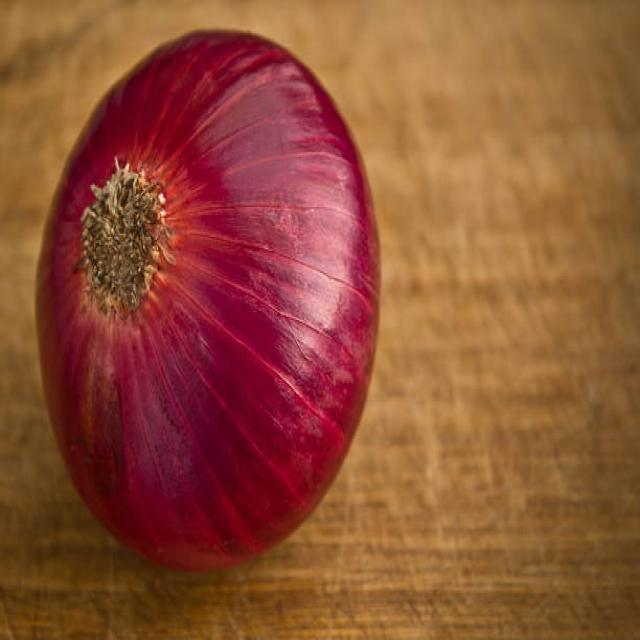onion: (22, 22, 384, 584)
